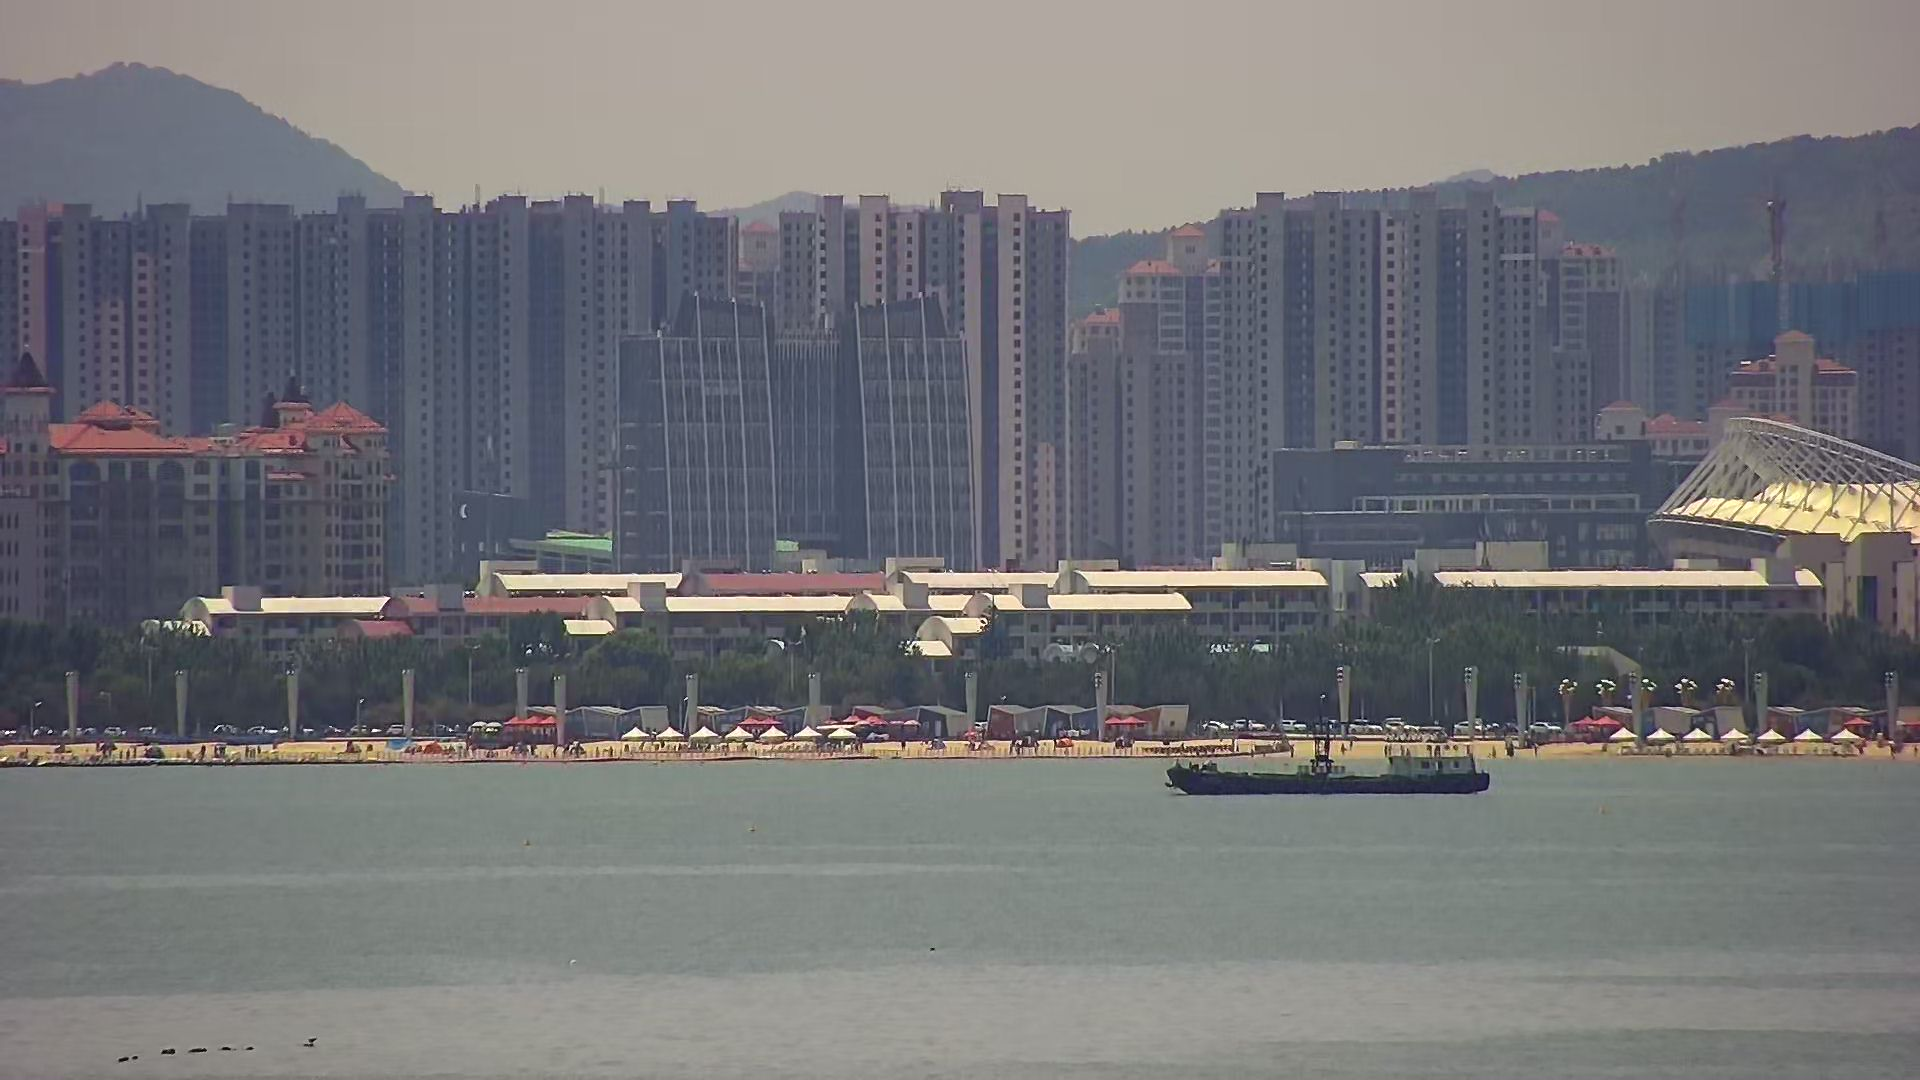ship: (1162, 749, 1491, 793)
